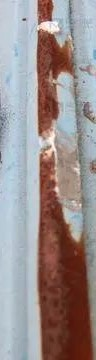Corrosion: (37, 148, 96, 360), (37, 1, 74, 140)
